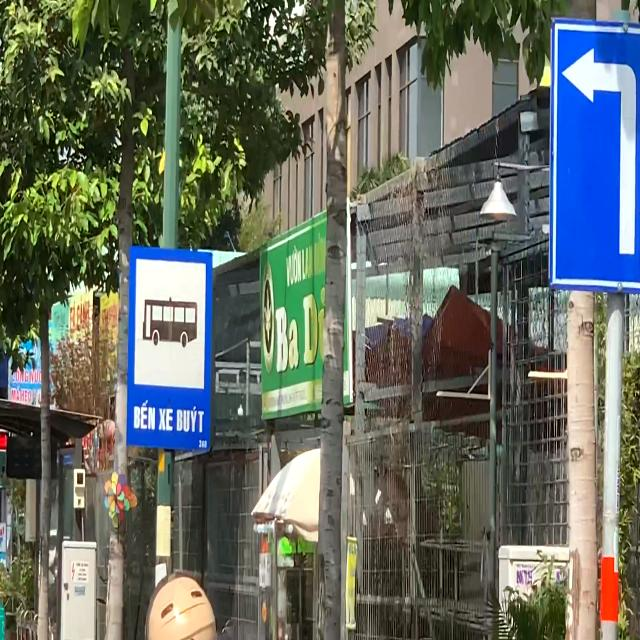R.434: (124, 244, 214, 452)
